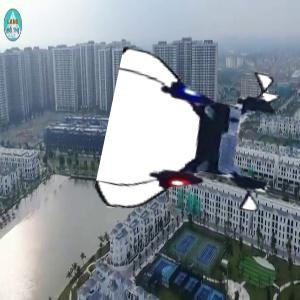drone: (108, 50, 285, 227)
